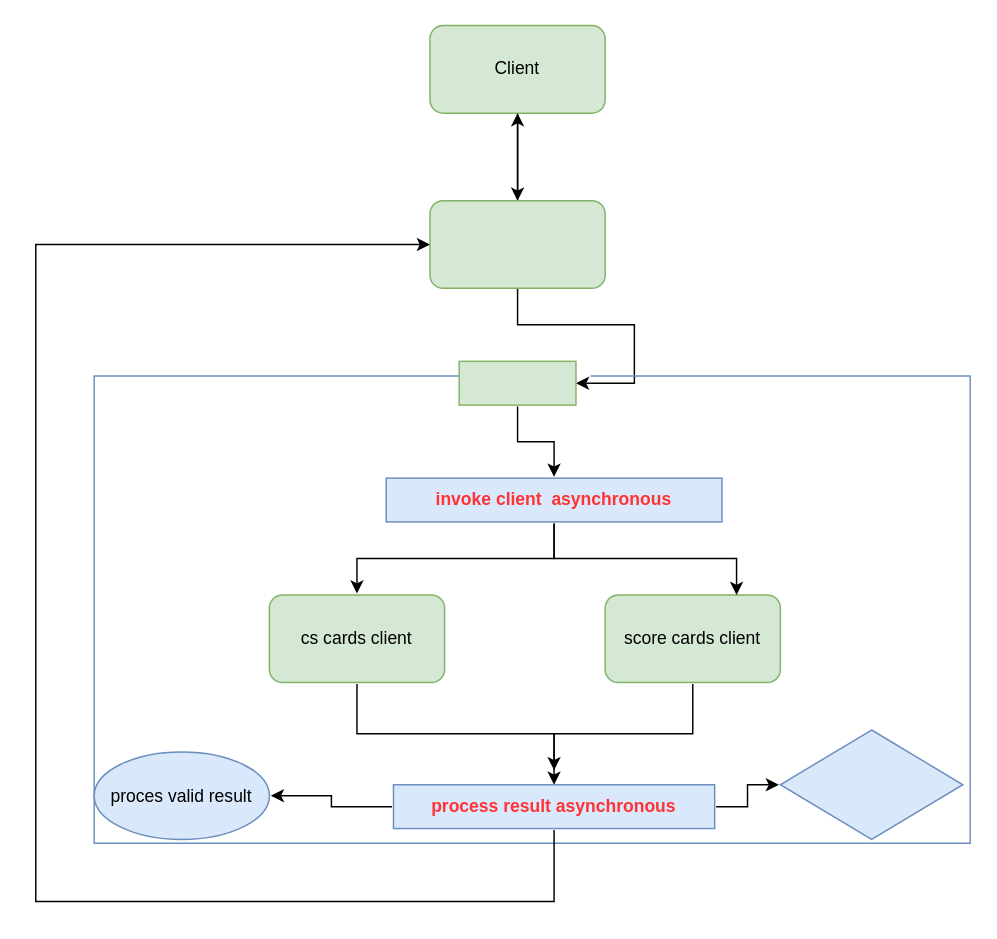
Image size: 997x939. Some labels were removed from this diagram. The shapes that lost their labels are listed below. From the top down, each one's centre as x and y in pixels, then its label:
pixel 517 243: controller
pixel 517 382: Service
pixel 871 784: log error if any
